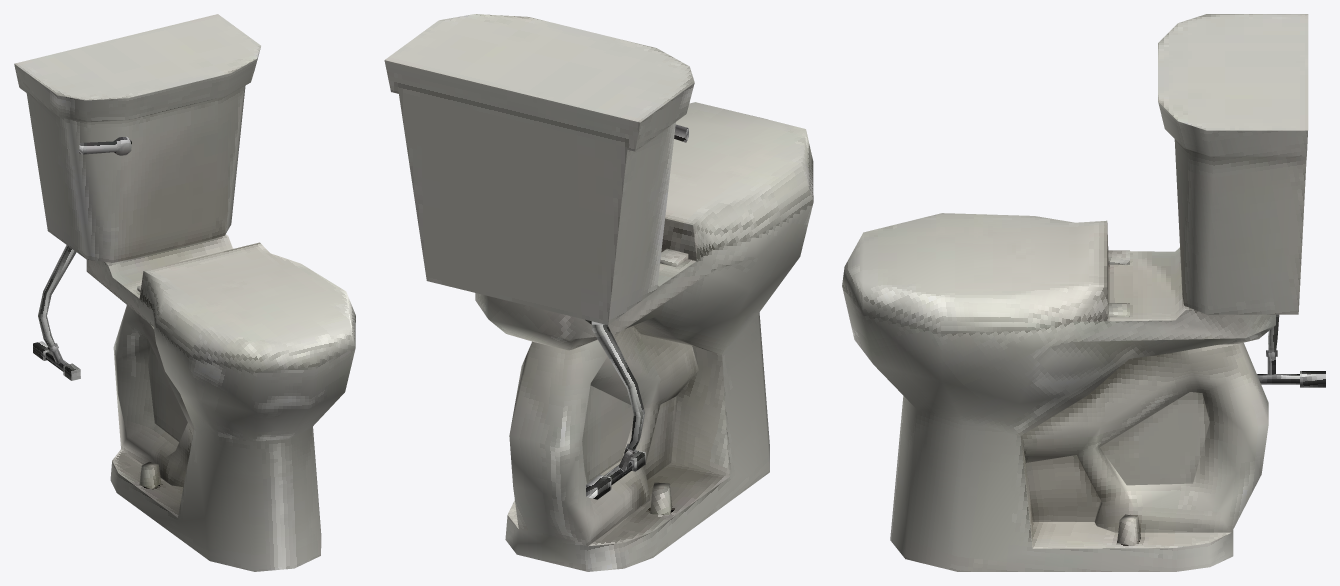
The model's file is toilet_object.glb.
3 views of the same model, side by side, from view 1: azimuth 30°, elevation 25°; view 2: azimuth 150°, elevation 25°; view 3: azimuth 270°, elevation 25° (orthographic). The views are drawn at different scales.
Parts seen in each view (by area): view 1: Object_4; view 2: Object_4; view 3: Object_4.
Part boxes in pixels (box(x1,y1,x2,y2)): Object_4: box(14, 14, 355, 571); Object_4: box(384, 14, 813, 571); Object_4: box(842, 14, 1325, 571).
Bounding box in the file's own units: 0.3798 × 0.7108 × 0.6663.
Materials: 1 (1 with a texture image).
